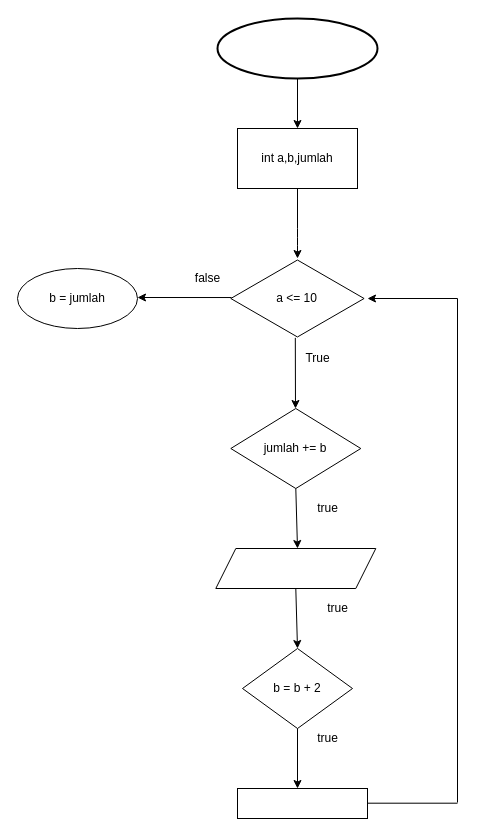
Image size: 483x836. Some labels were removed from this diagram. The shapes that lost their labels are listed below. From the top down, each one's box as (x1, y1, x2, y2) in pixels, then its label:
(216, 17, 378, 79): Start
(215, 548, 376, 588): b + jumlah
(236, 788, 368, 818): a++
